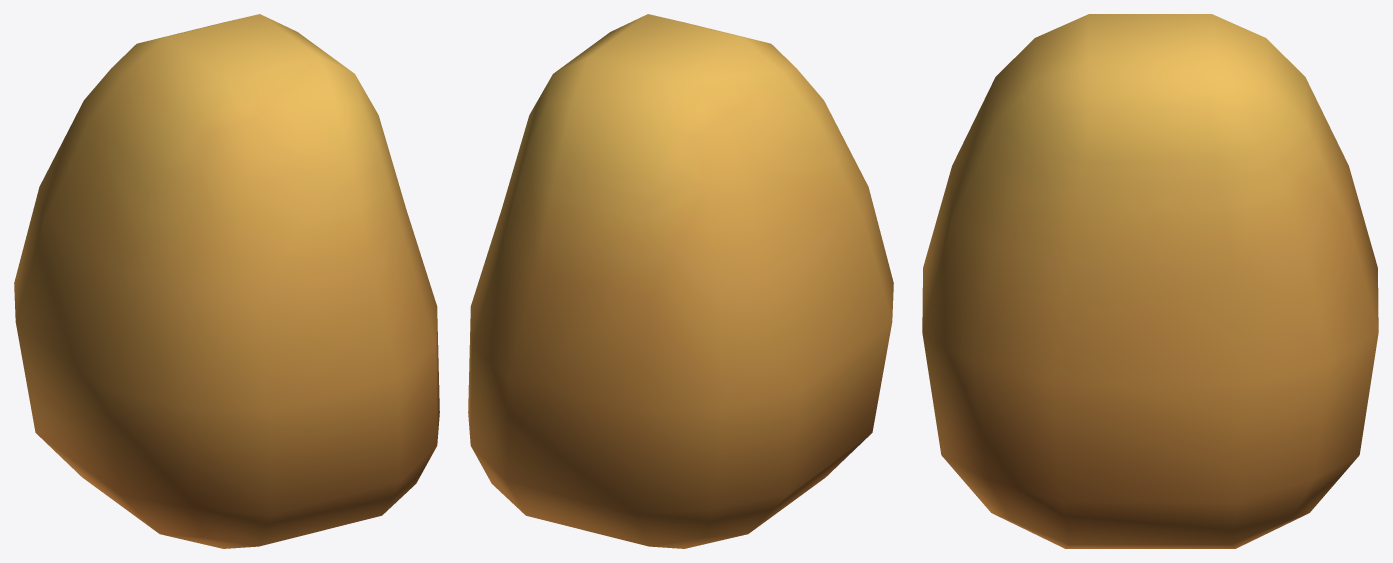
File: potato.glb
3 views of the same model, side by side, from view 1: azimuth 30°, elevation 25°; view 2: azimuth 150°, elevation 25°; view 3: azimuth 270°, elevation 25° (orthographic). The views are drawn at different scales.
Parts seen in each view (by area): view 1: food_ingredient_potato; view 2: food_ingredient_potato; view 3: food_ingredient_potato.
Part boxes in pixels (left/top/right/bottom): food_ingredient_potato: left=14, top=14, right=439, bottom=548; food_ingredient_potato: left=468, top=14, right=893, bottom=548; food_ingredient_potato: left=922, top=14, right=1378, bottom=548.
Size of the model in its own units: 0.6 by 0.78 by 0.68.
Materials: 1 (1 with a texture image).
